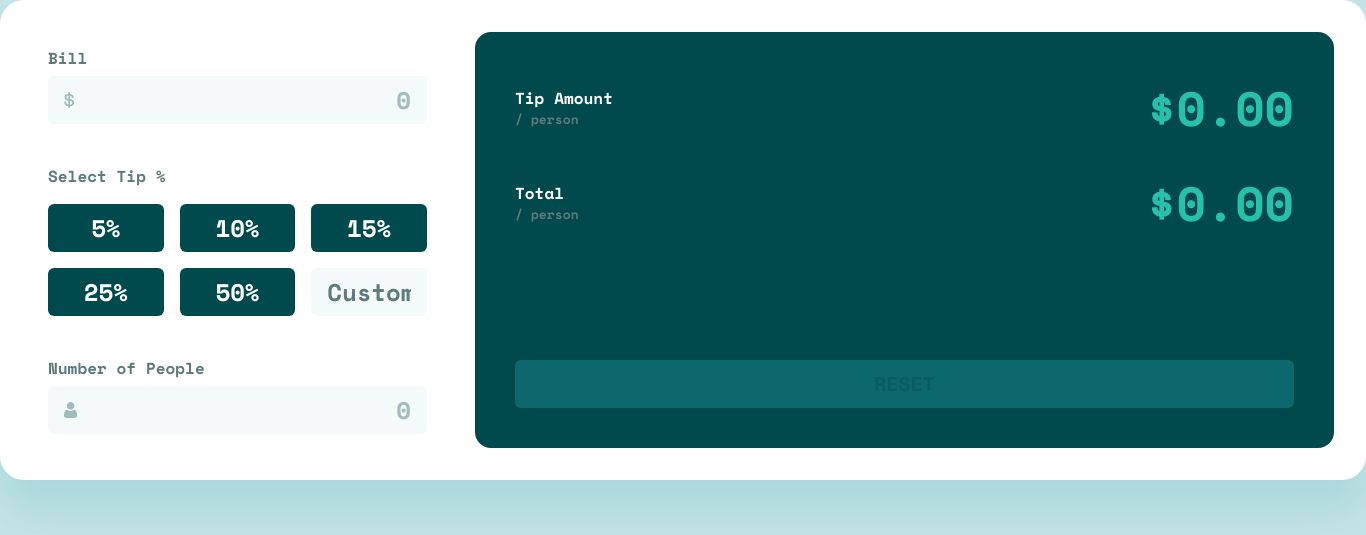
Scenario: Calculator form component › should display validation errors if invalid values is provided
Type "invalid" into the field labelled "Bill" at (238, 100), box [48, 76, 427, 124]
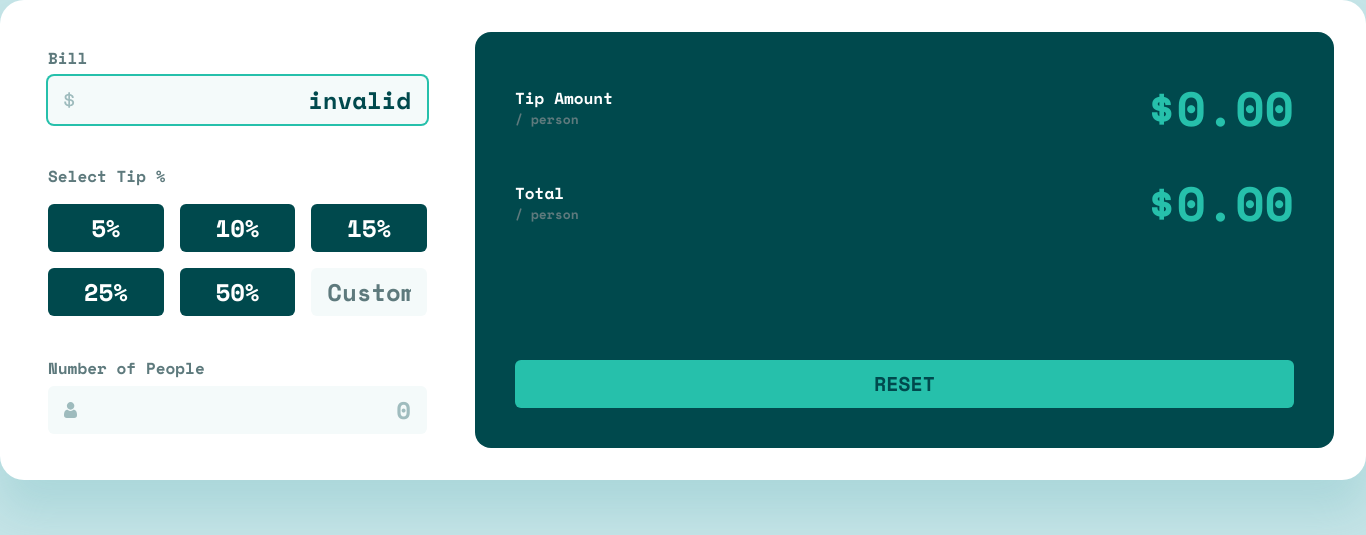
Type "0.1" into the field labelled "Number of People" at (238, 410), box [48, 386, 427, 434]
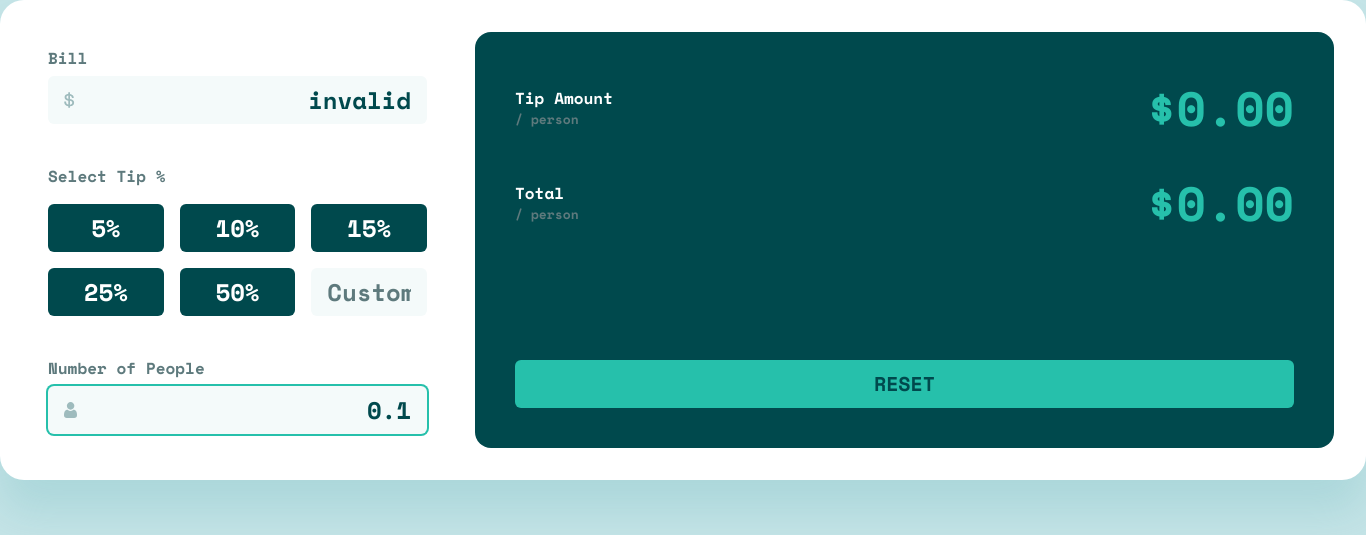
Click the button "10%" at (238, 228), box [180, 204, 295, 252]
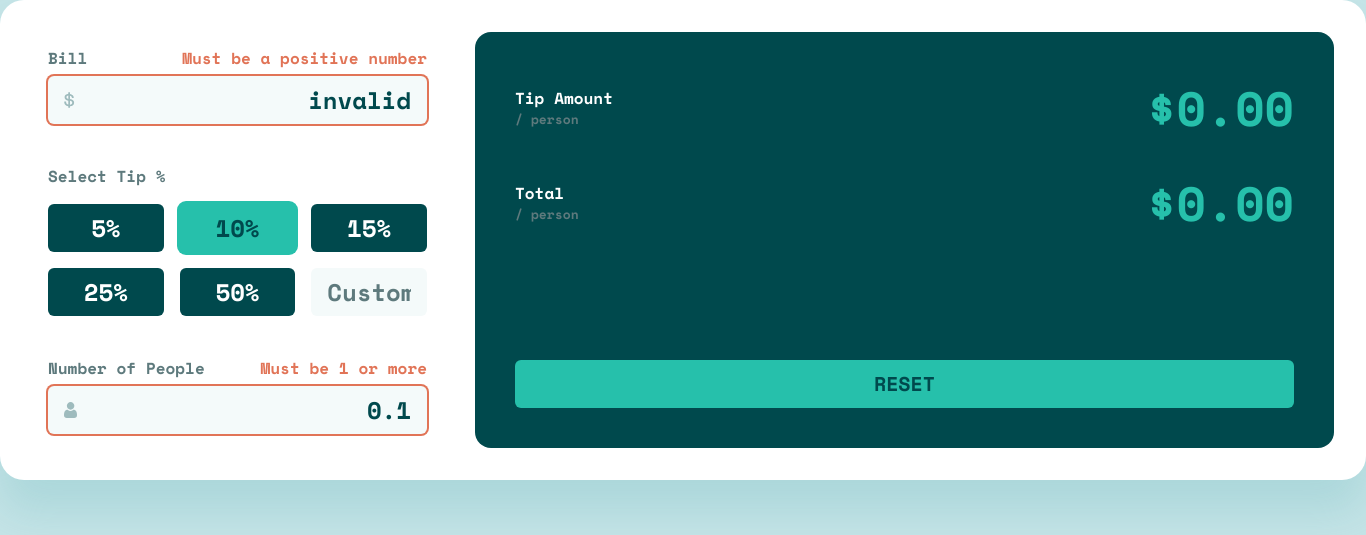
Result: the text "Must be a positive number" is shown at [182, 46, 427, 70]
Result: the text "Must be 1 or more" is shown at [260, 356, 427, 380]
